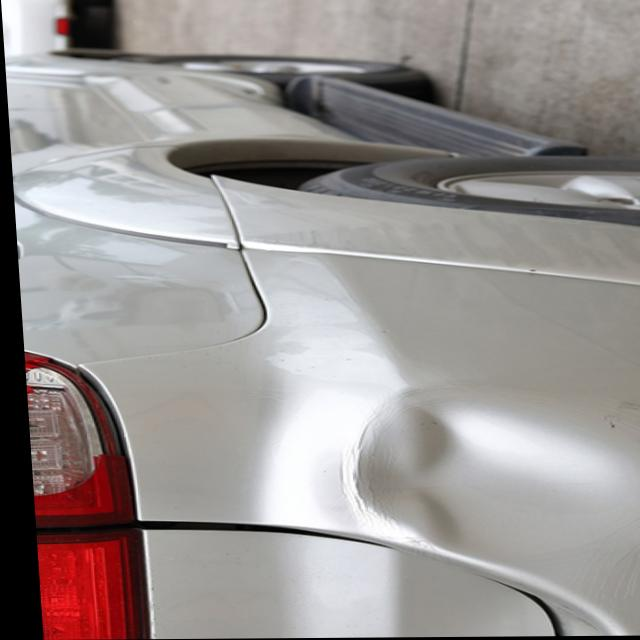Dent: (324, 372, 640, 572)
